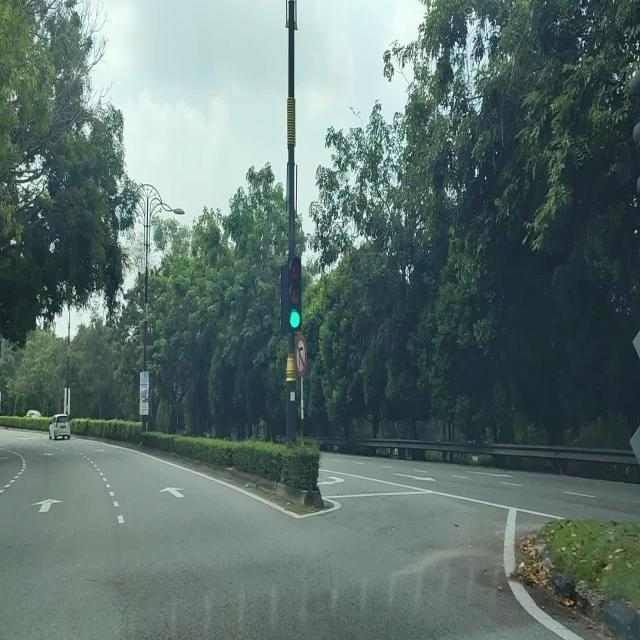green_light: (286, 258, 302, 332)
